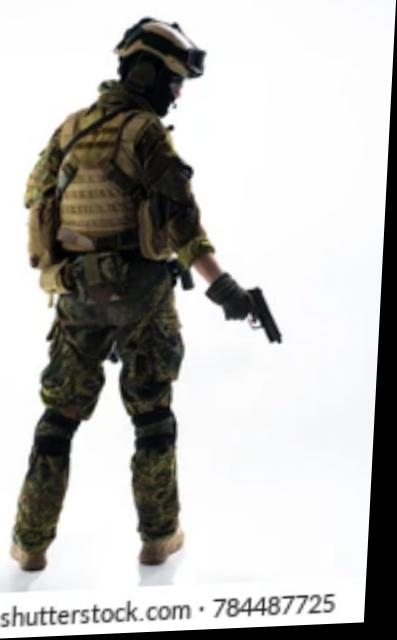other: (8, 13, 256, 576)
